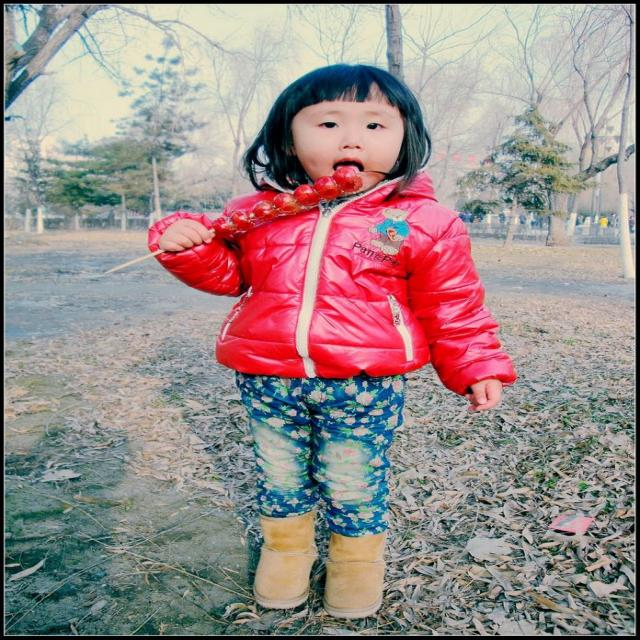nomask: (293, 104, 402, 188)
